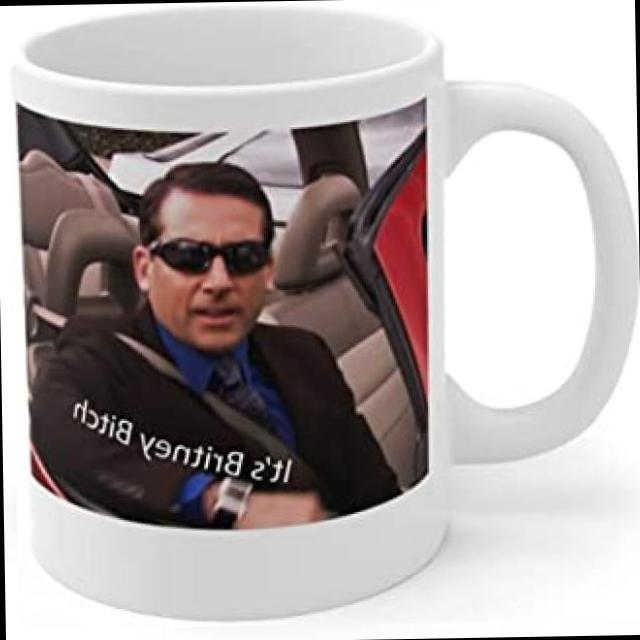taza: (8, 10, 637, 618)
